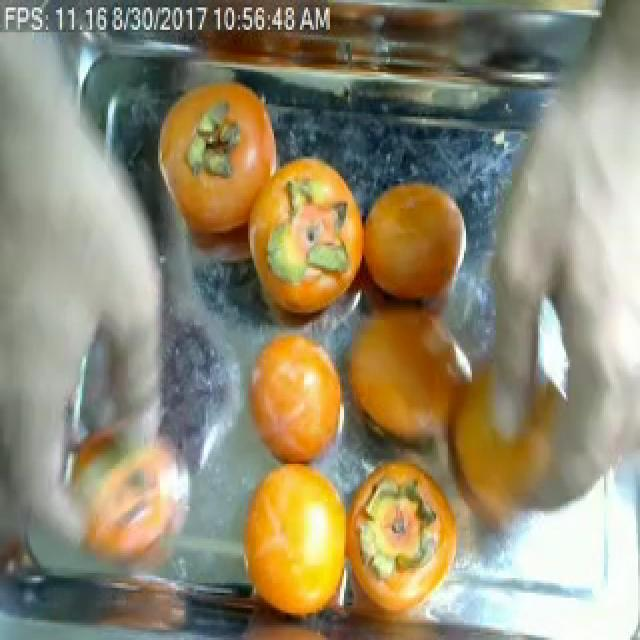Fruit: (226, 449, 354, 638), (350, 162, 488, 332), (142, 54, 286, 214), (230, 315, 344, 486)
